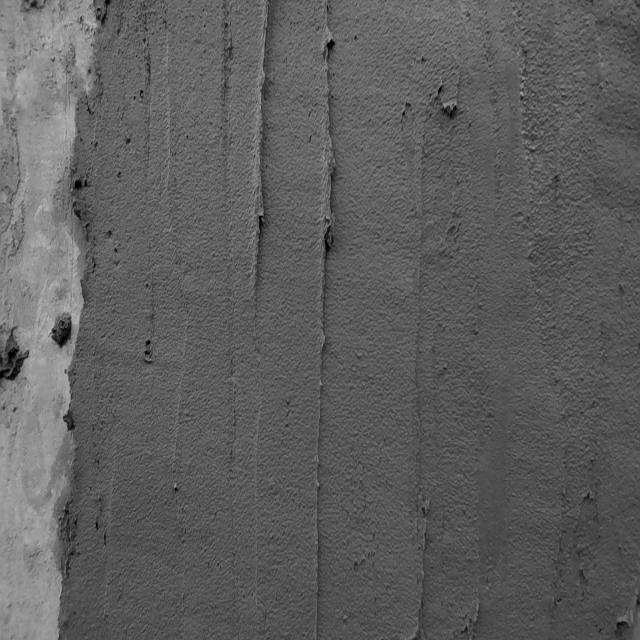trowels marks: (312, 14, 338, 640), (248, 4, 278, 334), (414, 470, 429, 640)
